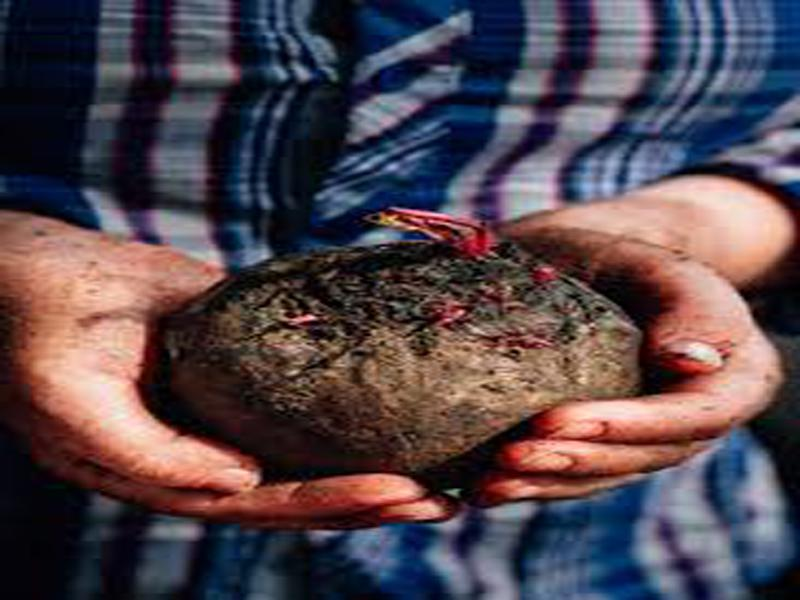Beet: (156, 205, 642, 478)
